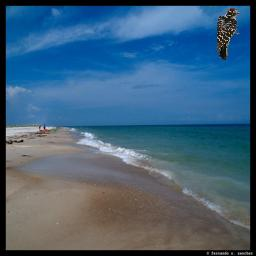Woodpecker: (217, 7, 240, 61)
